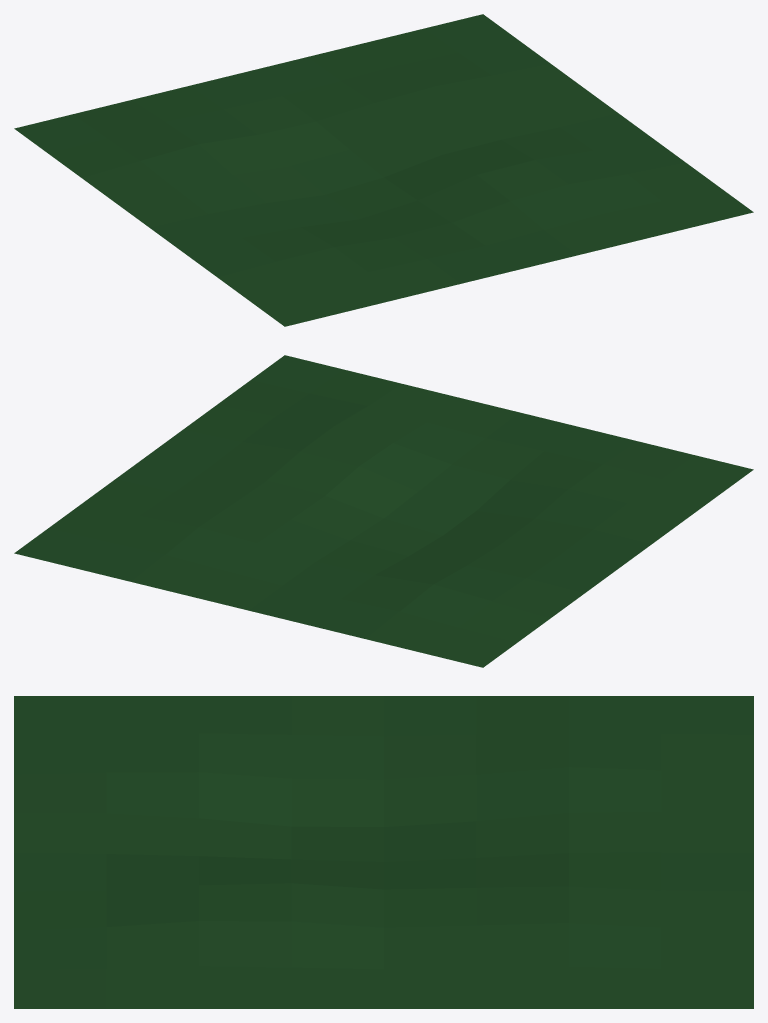
Rendered from Terrain_12_Dark_Green.fbx.
3 renders of one model, top to bottom at view 1: azimuth 30°, elevation 25°; view 2: azimuth 150°, elevation 25°; view 3: azimuth 270°, elevation 25°, orthographic. The views are drawn at different scales.
Parts seen in each view (by area): view 1: Terrain_12_Dark_Green; view 2: Terrain_12_Dark_Green; view 3: Terrain_12_Dark_Green.
Boxes of the visible parts, x1,y1,x2,y2 form: Terrain_12_Dark_Green: (14, 14, 753, 326); Terrain_12_Dark_Green: (14, 355, 753, 667); Terrain_12_Dark_Green: (14, 696, 753, 1008).
Size of the model in its own units: 5000 by 175 by 5000.
